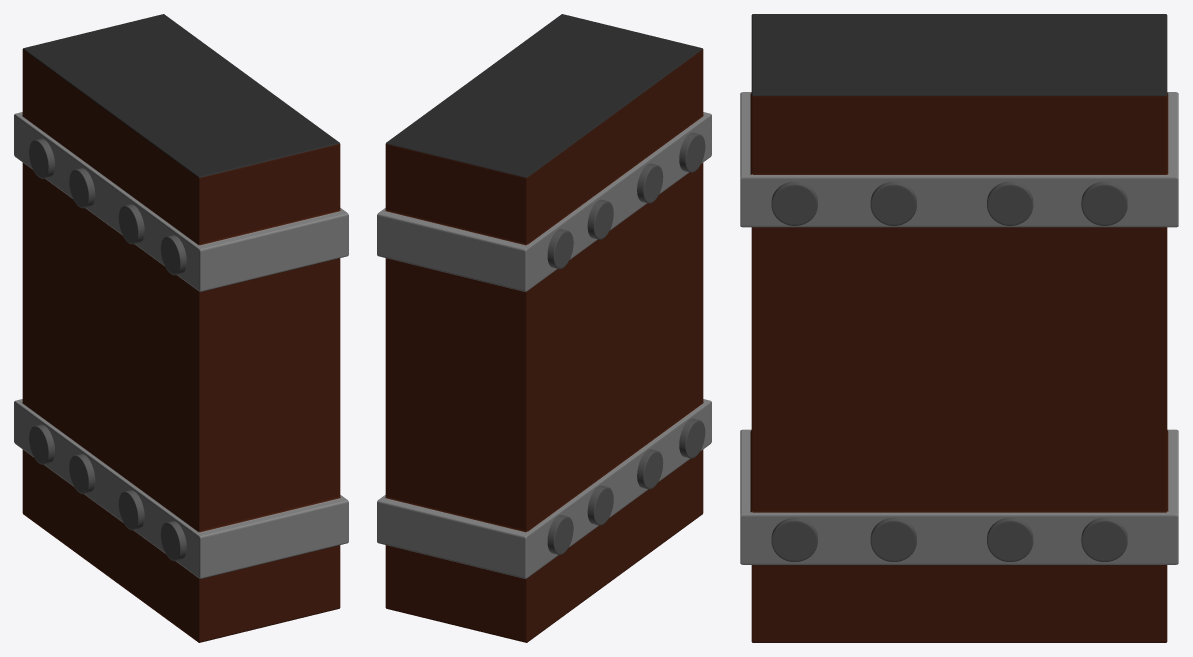
Rendered from puerta.fbx.
3 renders of one model, left to right at view 1: azimuth 30°, elevation 25°; view 2: azimuth 150°, elevation 25°; view 3: azimuth 270°, elevation 25°, orthographic. The views are drawn at different scales.
Parts seen in each view (by area): view 1: puerta; view 2: puerta; view 3: puerta.
Boxes of the visible parts, x1,y1,x2,y2 form: puerta: (14, 14, 348, 642); puerta: (377, 14, 711, 642); puerta: (740, 14, 1178, 642).
Size of the model in its own units: 227 by 630 by 456.
